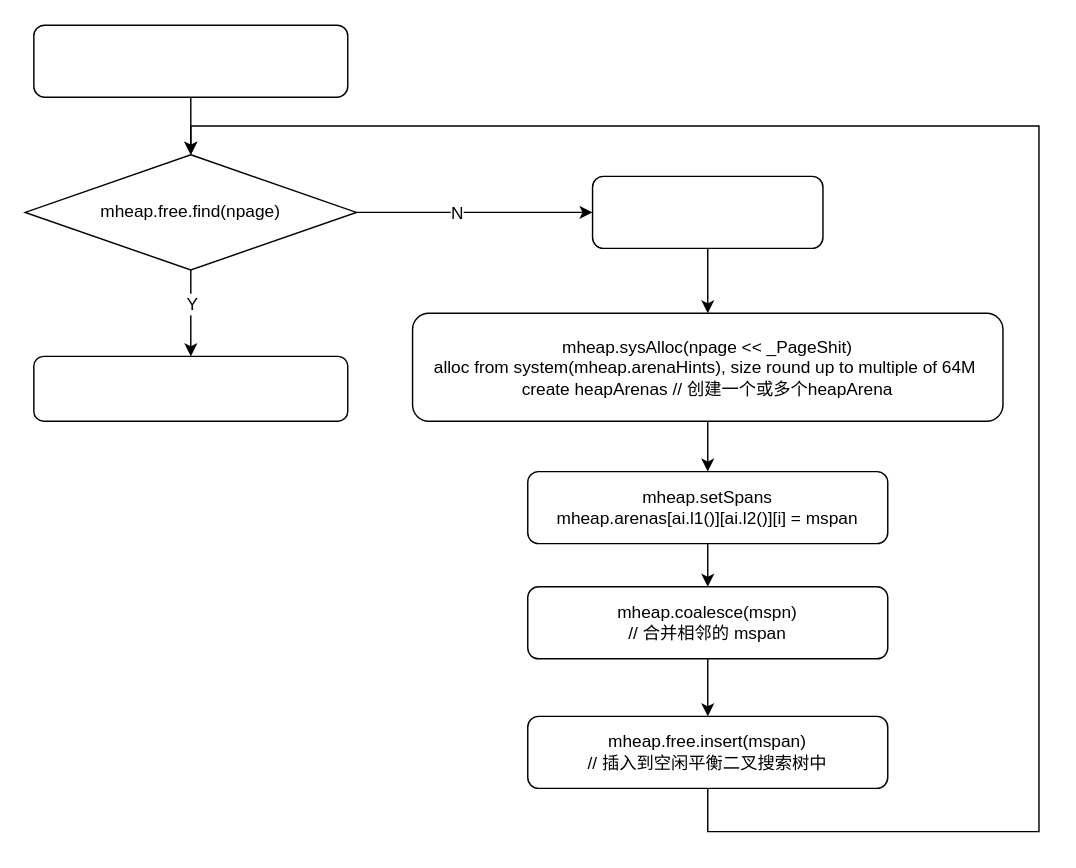
The diagram is 1076 pixels wide and 868 high, and some of its shapes have lost their labels. The centre of each missing label's shape, as x and y in pixels:
"mheap.allocSpanLocked(npage)" goes at point 190,60.
"mheap.grow(npage)" goes at point 707,211.
"return mspan" goes at point 190,388.
